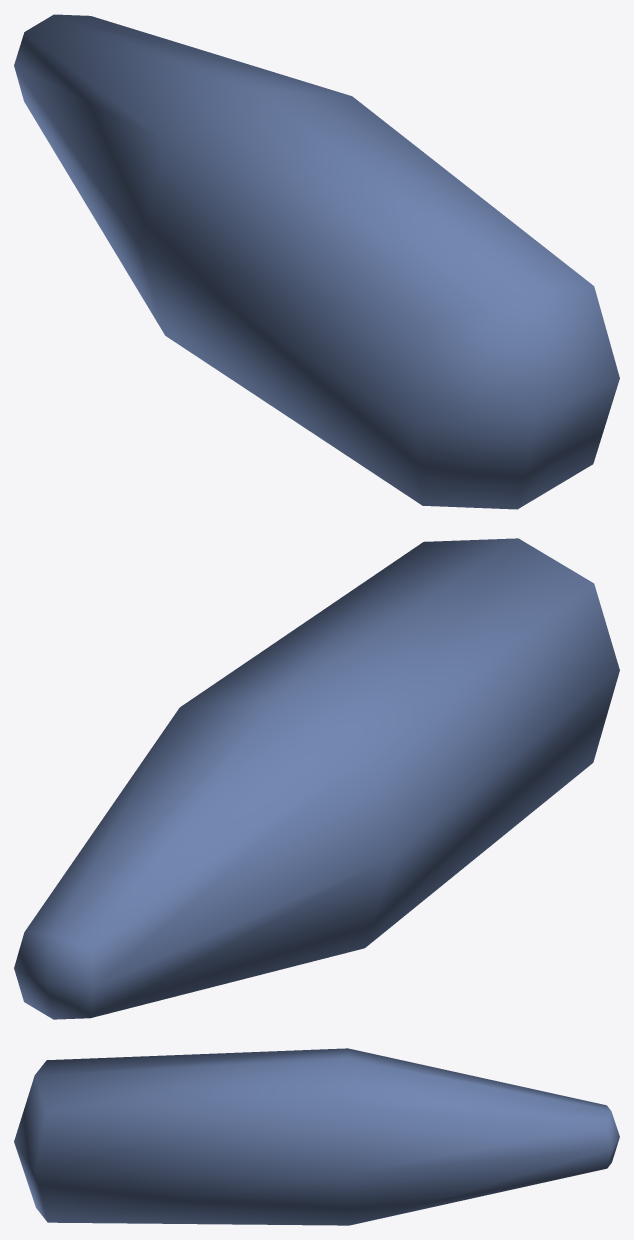
File: UpperLegRight.dae
3 renders of one model, top to bottom at view 1: azimuth 30°, elevation 25°; view 2: azimuth 150°, elevation 25°; view 3: azimuth 270°, elevation 25°, orthographic. The views are drawn at different scales.
Visible parts, largest first — view 1: UpperLeg_R; view 2: UpperLeg_R; view 3: UpperLeg_R.
Part boxes in pixels (x1,y1,x2,y2): UpperLeg_R: [14, 14, 619, 509]; UpperLeg_R: [14, 538, 619, 1019]; UpperLeg_R: [14, 1048, 619, 1225].
Size of the model in its own units: 0.1233 by 0.4337 by 0.1233.
